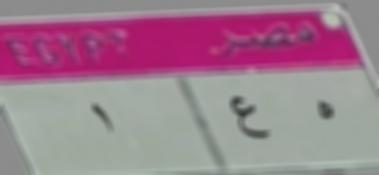1: (84, 97, 125, 142)
ain: (229, 88, 274, 150)
haa: (308, 92, 348, 132)
